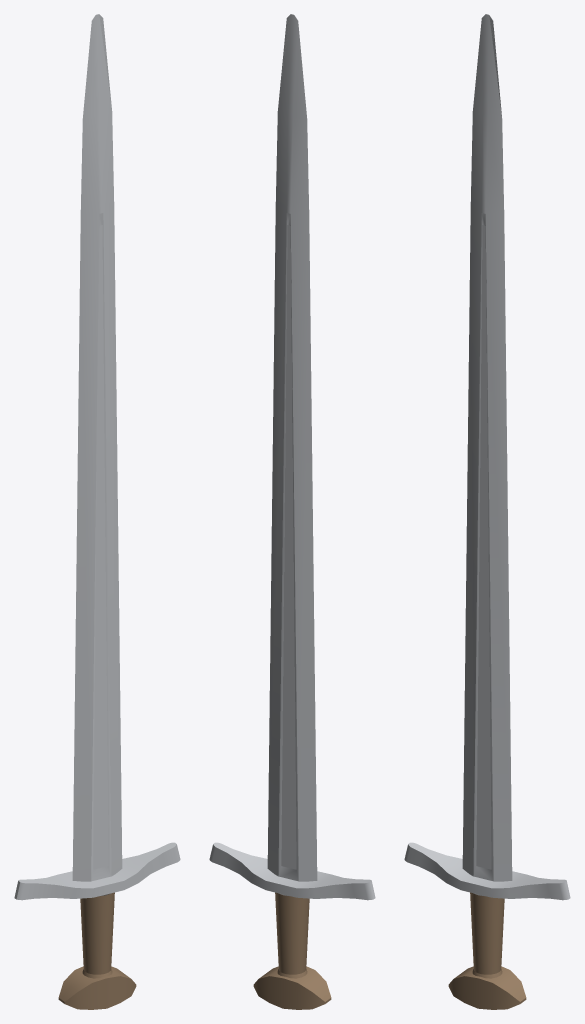
Rendered from weapon_steel_sword.glb.
3 renders of one model, left to right at view 1: azimuth 30°, elevation 25°; view 2: azimuth 150°, elevation 25°; view 3: azimuth 330°, elevation 25°, orthographic.
Visible parts, largest first — view 1: steel_sword; view 2: steel_sword; view 3: steel_sword.
Boxes of the visible parts, x1,y1,x2,y2 form: steel_sword: [14, 14, 180, 1009]; steel_sword: [209, 14, 375, 1009]; steel_sword: [404, 14, 570, 1009].
Size of the model in its own units: 0.2 by 1.15 by 0.0481.
